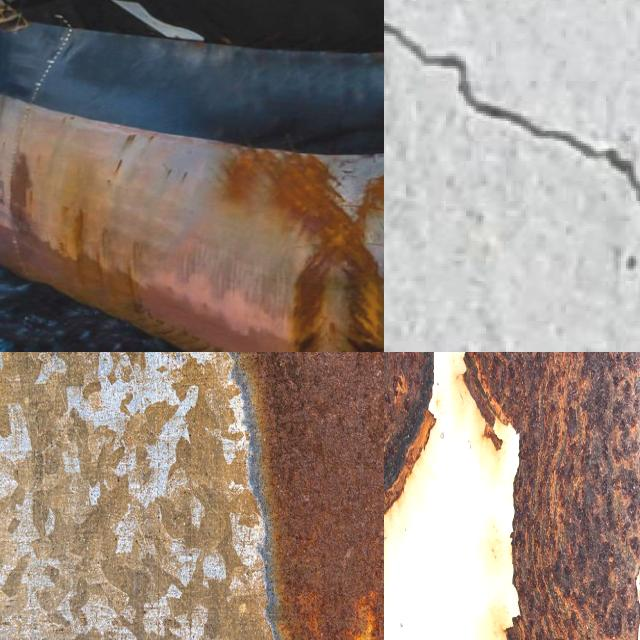Crack: (384, 12, 640, 229)
Pitting Corrosion: (464, 352, 640, 640)
Uniform Corrosion: (241, 352, 384, 640), (222, 149, 384, 352)
